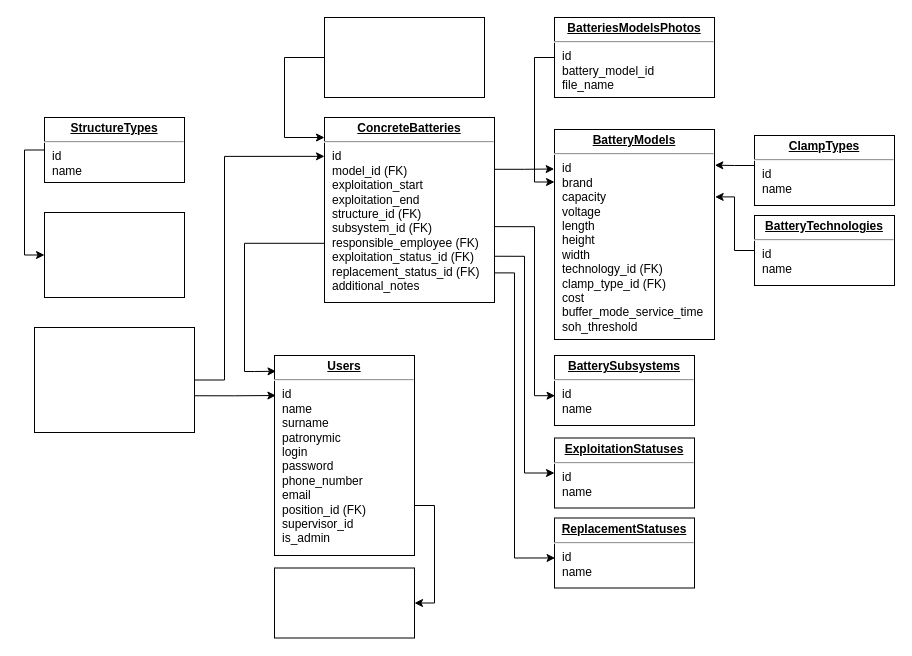
The diagram is 912 pixels wide and 656 high, and some of its shapes have lost their labels. Each missing label, with the box of its shape:
BatterySoHMeasures id battery_id (FK) performing_employee (FK) measure_date soh: (34, 326, 194, 432)
ConcreteBatteriesPhotos id battery_id (FK) file_name: (324, 16, 484, 98)
Positions id name: (274, 567, 414, 638)
Structures id name type_id (FK): (44, 212, 184, 298)
